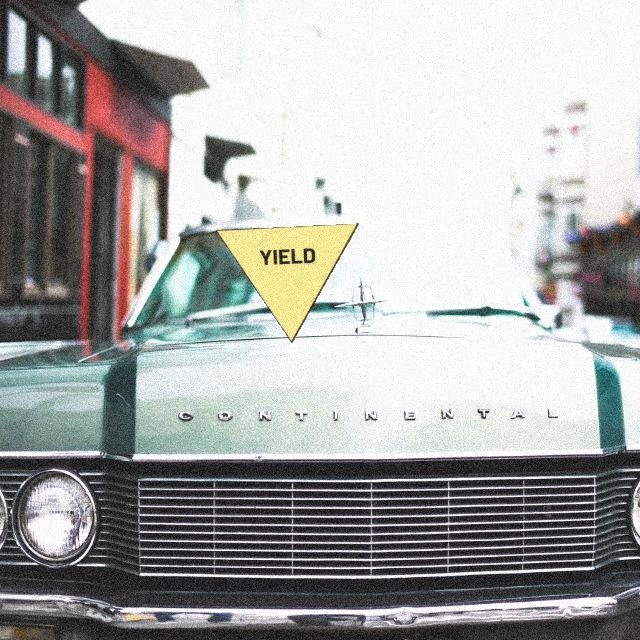YIELD: (215, 223, 359, 343)
